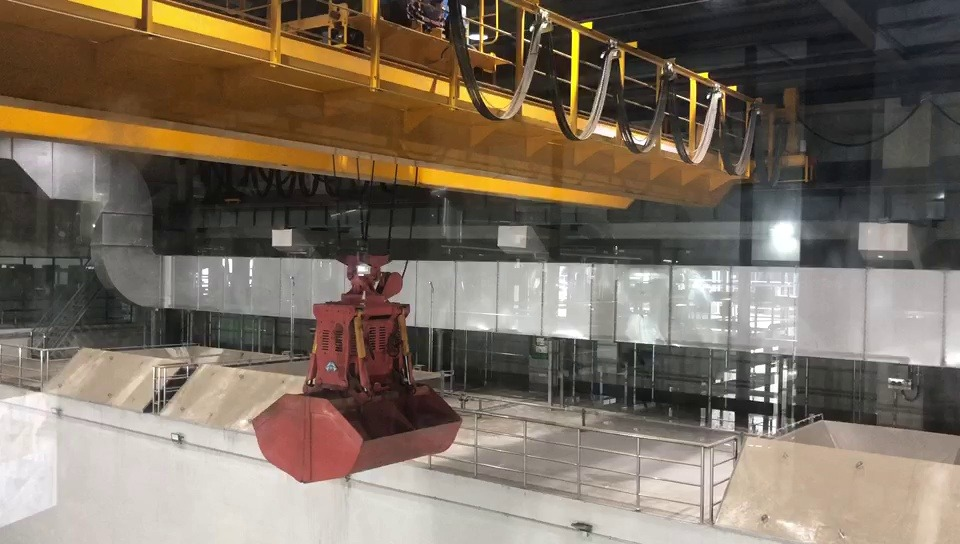grab: (246, 249, 466, 486)
